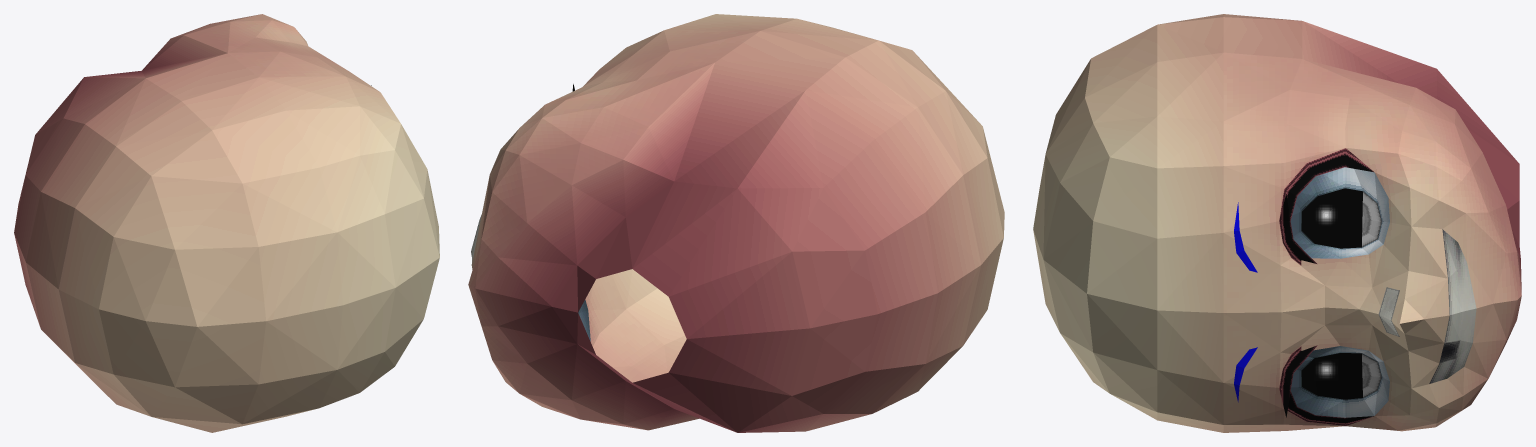
The model's file is Npc_60116.obj.
3 views of the same model, side by side, from view 1: azimuth 30°, elevation 25°; view 2: azimuth 150°, elevation 25°; view 3: azimuth 270°, elevation 25° (orthographic). The views are drawn at different scales.
Visible parts, largest first — view 1: Npc_60116; view 2: Npc_60116; view 3: Npc_60116.
Part boxes in pixels (bbox=[...]): Npc_60116: bbox=[14, 14, 439, 432]; Npc_60116: bbox=[468, 14, 1004, 432]; Npc_60116: bbox=[1033, 14, 1521, 432].
Size of the model in its own units: 0.411 by 0.342 by 0.4248.
Materials: 3 (2 with a texture image).
